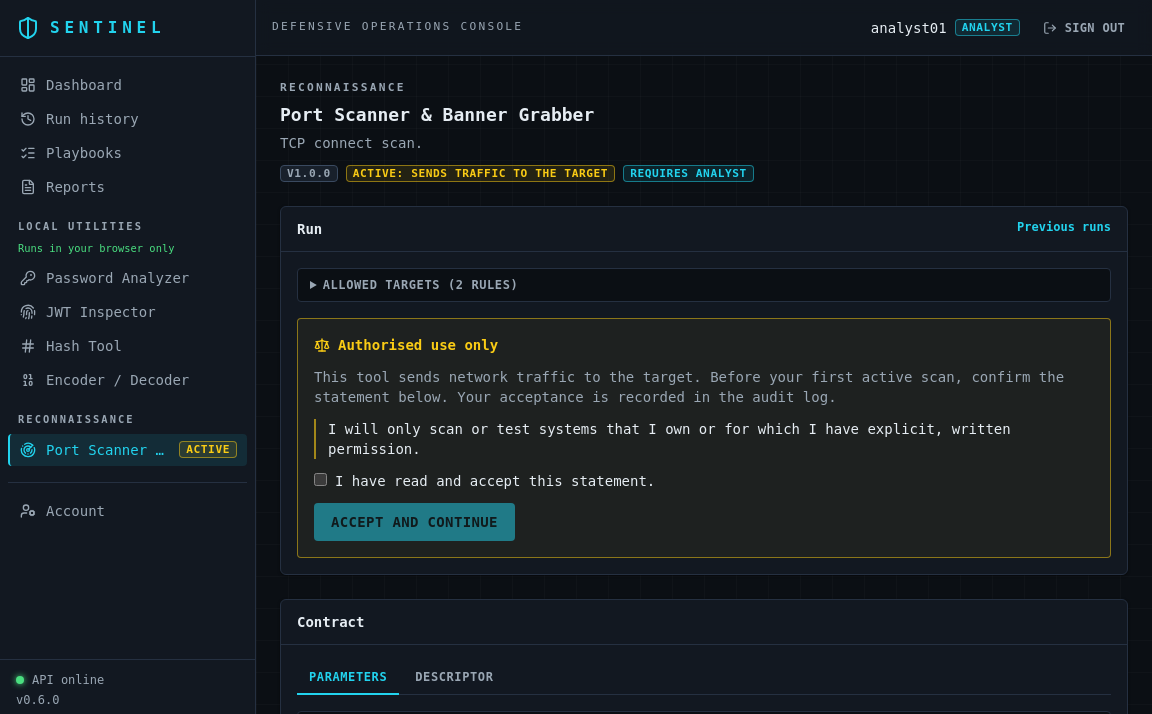
authorised-use gate on active tools › requires accepting the statement before the run form appears
Expected: the text "I will only scan or test systems that I own or for which I have explicit, written permission." is shown, left=328, top=421, right=1011, bottom=457
Expected: the button "Accept and continue" is disabled, left=314, top=503, right=515, bottom=541
Step 1. Click the checkbox labelled "I have read and accept this statement." → coordinates (320, 480), box left=314, top=473, right=327, bottom=486
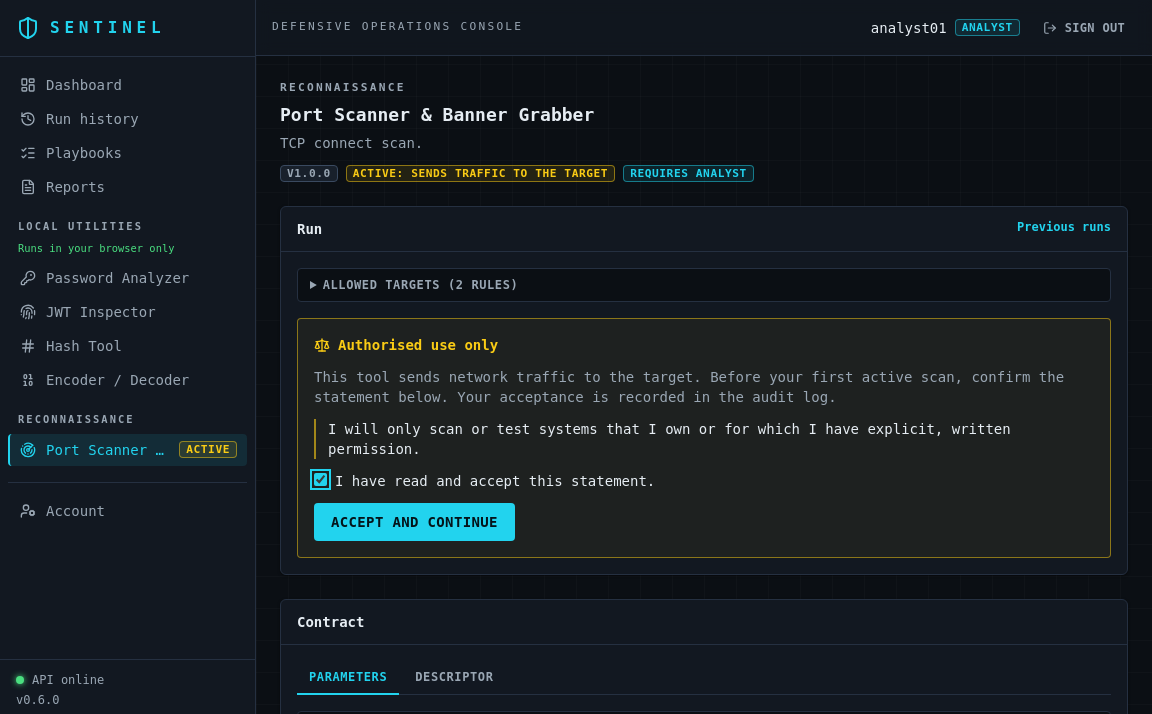
Step 2. Click the button "Accept and continue" → coordinates (414, 522), box left=314, top=503, right=515, bottom=541
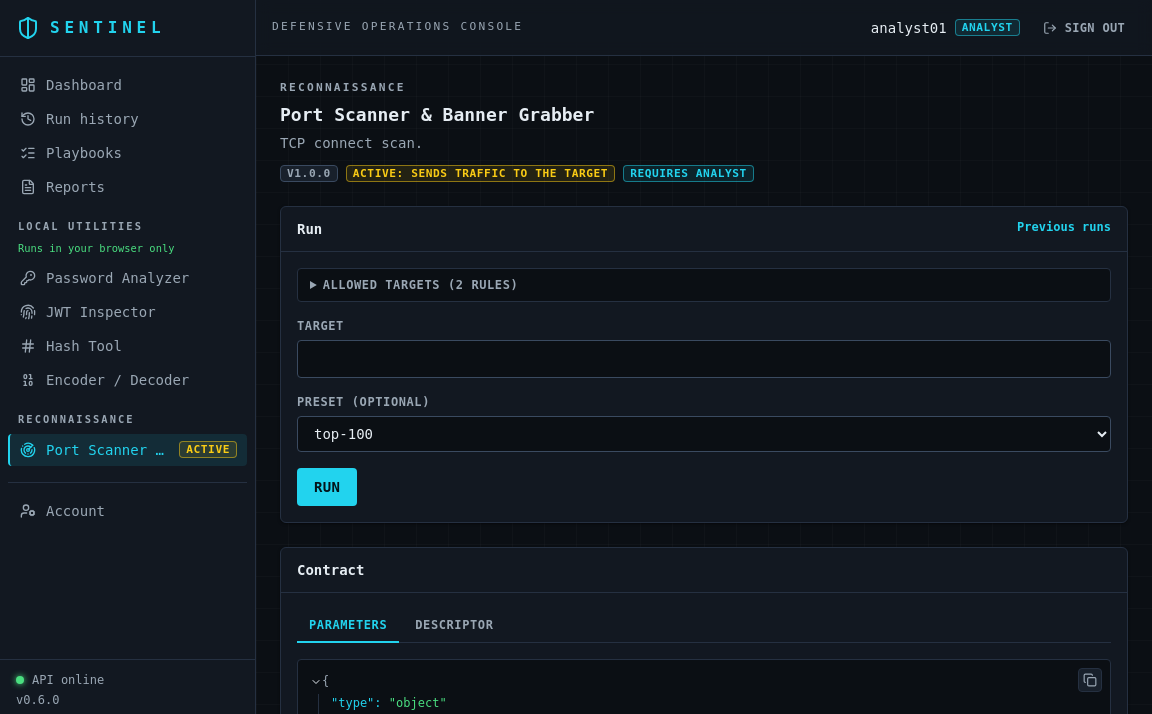
Expected: the field labelled "Target" is shown, left=297, top=340, right=1111, bottom=378
